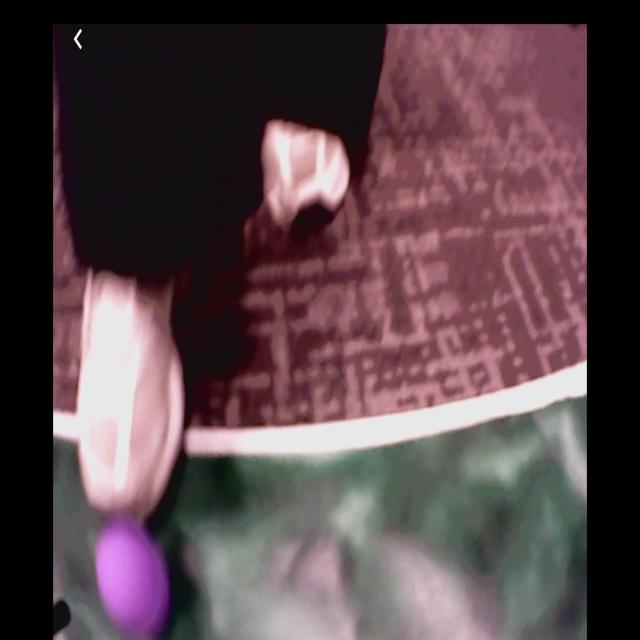ball: (96, 522, 167, 636)
